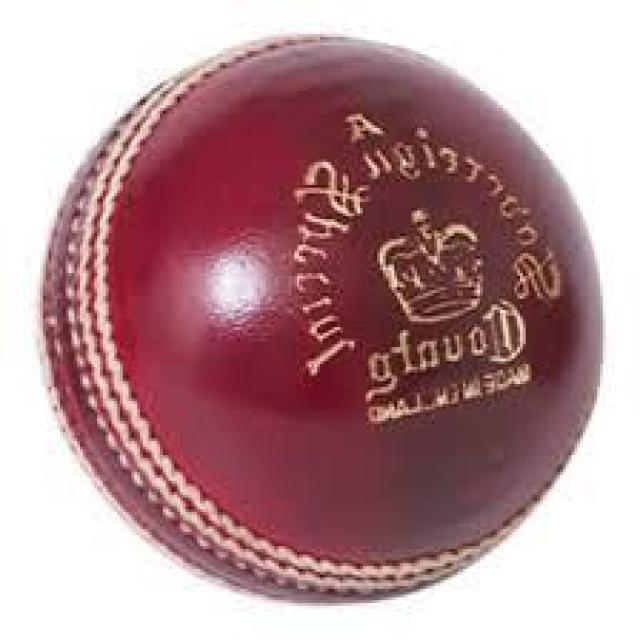ball: (40, 37, 597, 609)
